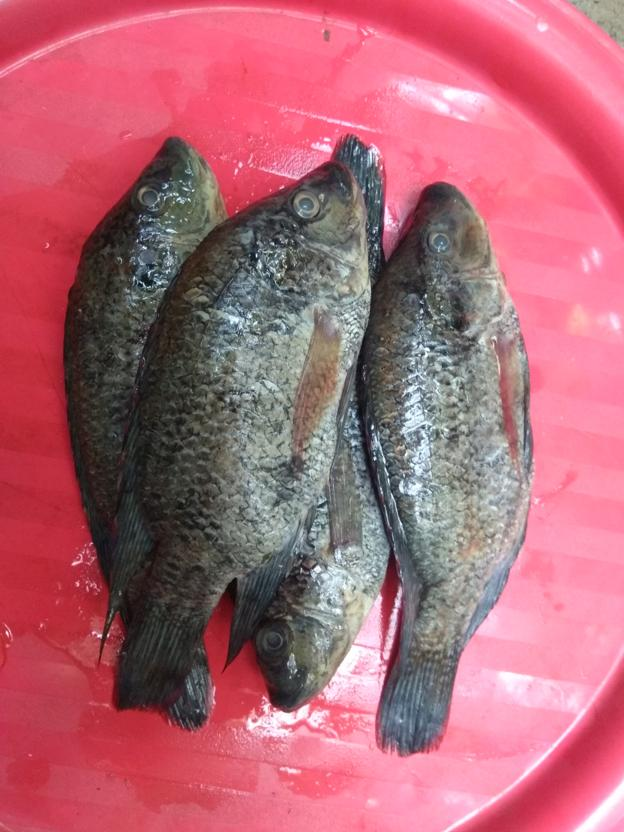Fish head: (227, 159, 370, 308), (388, 179, 521, 339), (255, 540, 372, 713), (88, 134, 222, 279)
Fish tail: (110, 578, 211, 713), (373, 638, 459, 759)
